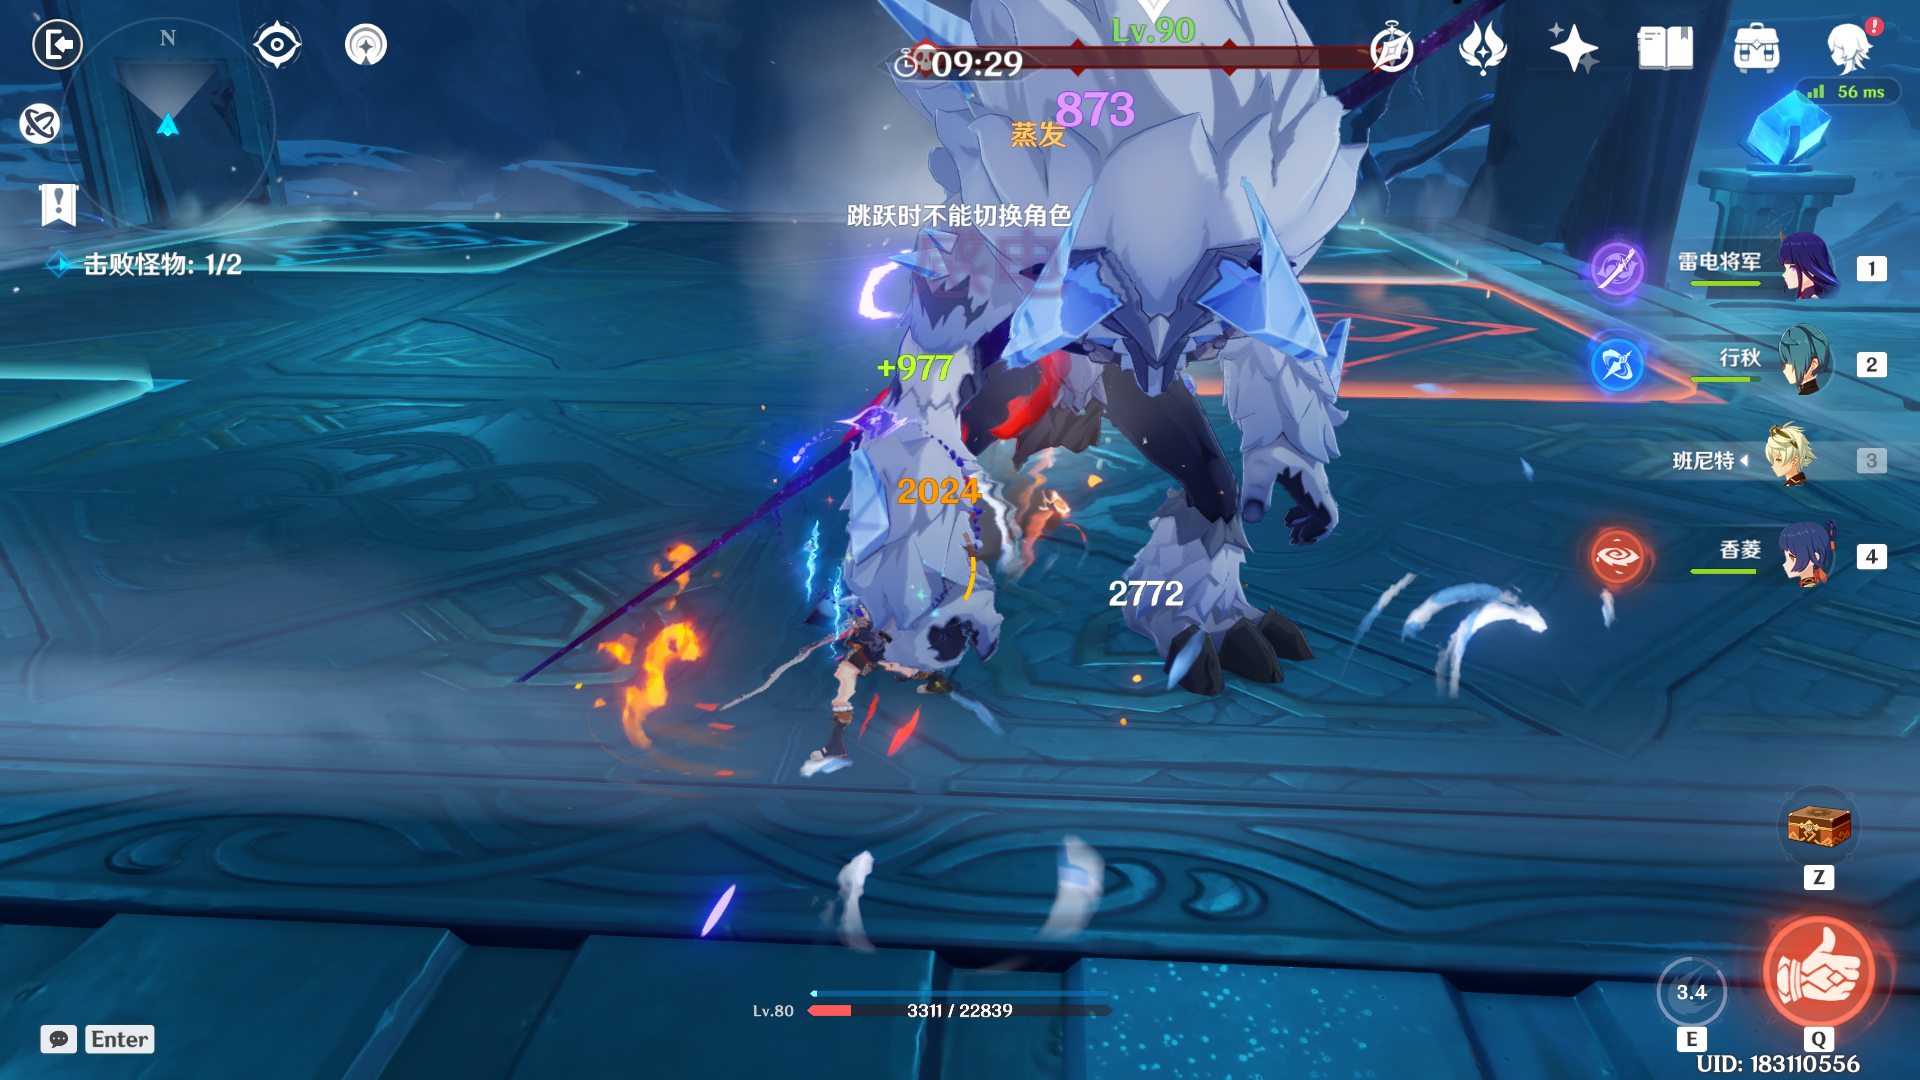bosshili: (786, 1, 1462, 742)
